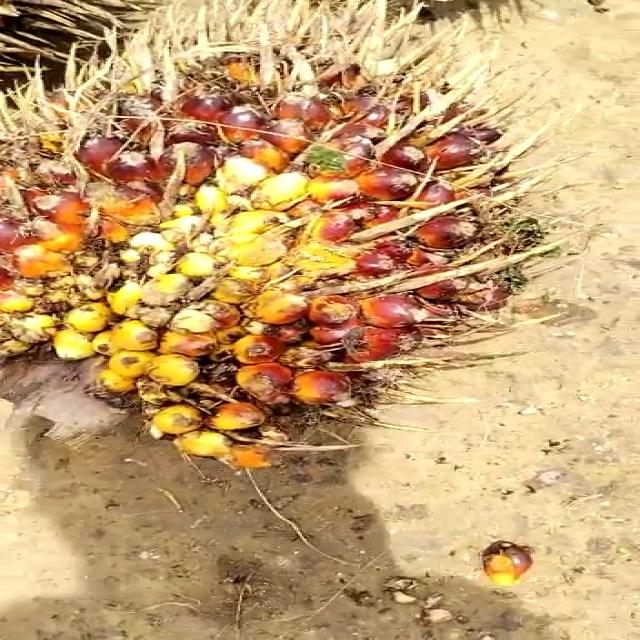palm oil: (0, 27, 561, 491)
